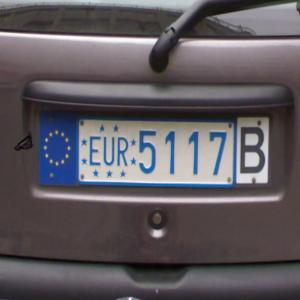Vehicle-registration-plate: (60, 110, 245, 202)
